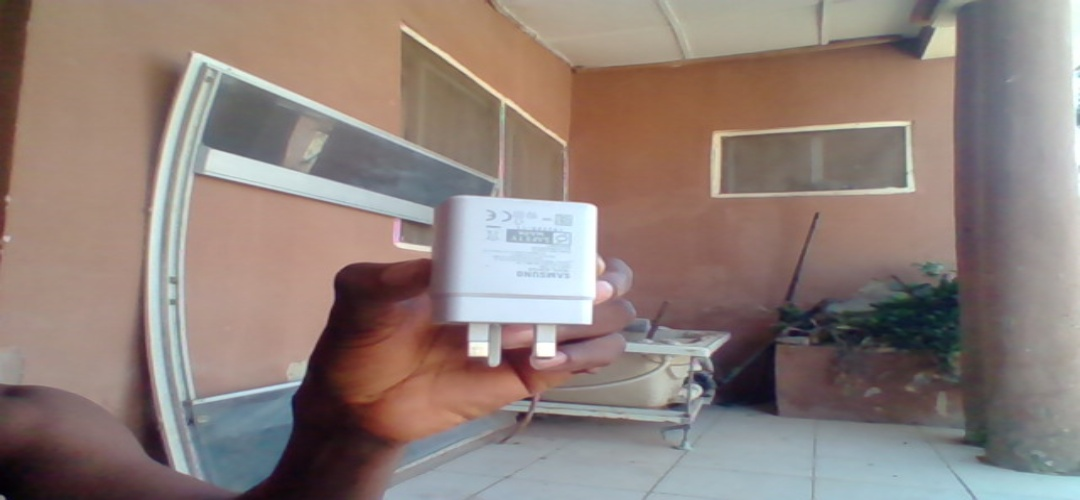phone_charger: (433, 193, 599, 369)
